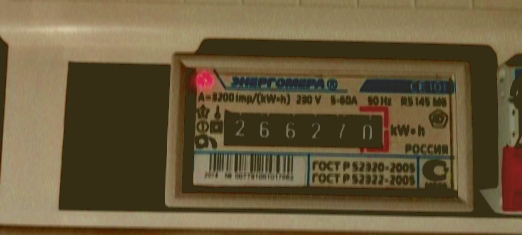0: (361, 121, 376, 141)
2: (234, 116, 248, 138), (311, 120, 325, 140)
6: (285, 119, 299, 139), (259, 118, 272, 139)
7: (337, 120, 348, 139)
screen: (213, 99, 397, 157)
